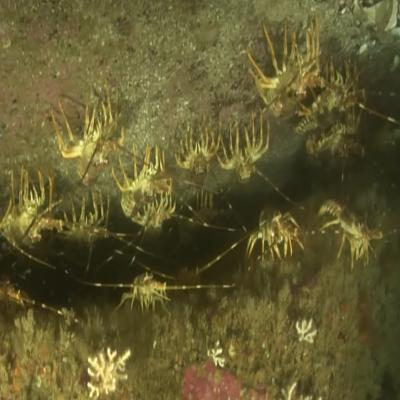lobster: (67, 102, 115, 183), (322, 187, 371, 250), (6, 173, 48, 243), (117, 149, 160, 217), (307, 72, 348, 137), (250, 203, 296, 248), (272, 50, 306, 110), (70, 208, 110, 253), (185, 123, 212, 185), (233, 127, 259, 184), (130, 270, 163, 306)
